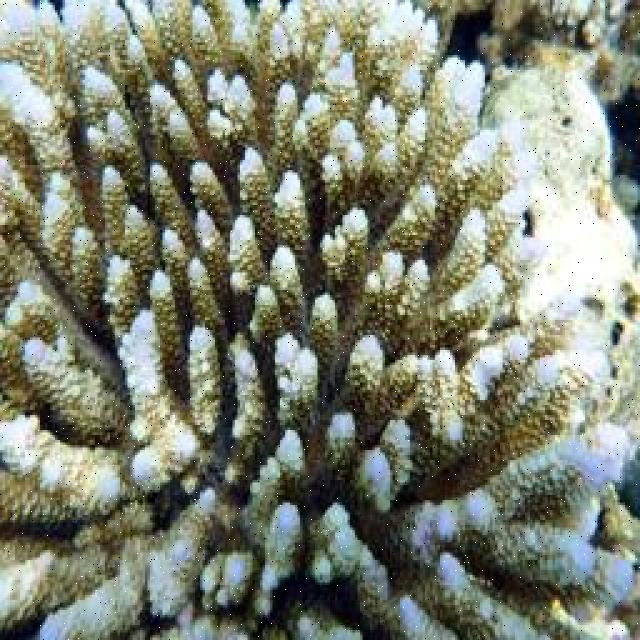reefs: (1, 0, 634, 638)
